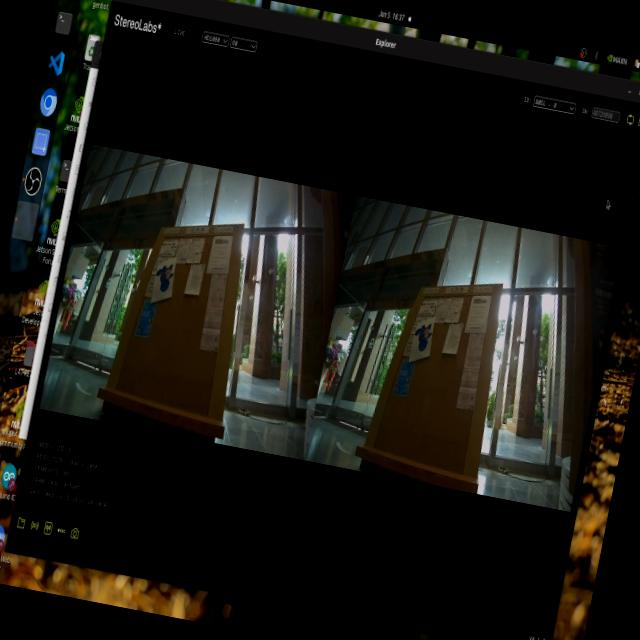blue: (407, 314, 437, 362), (146, 258, 178, 301)
